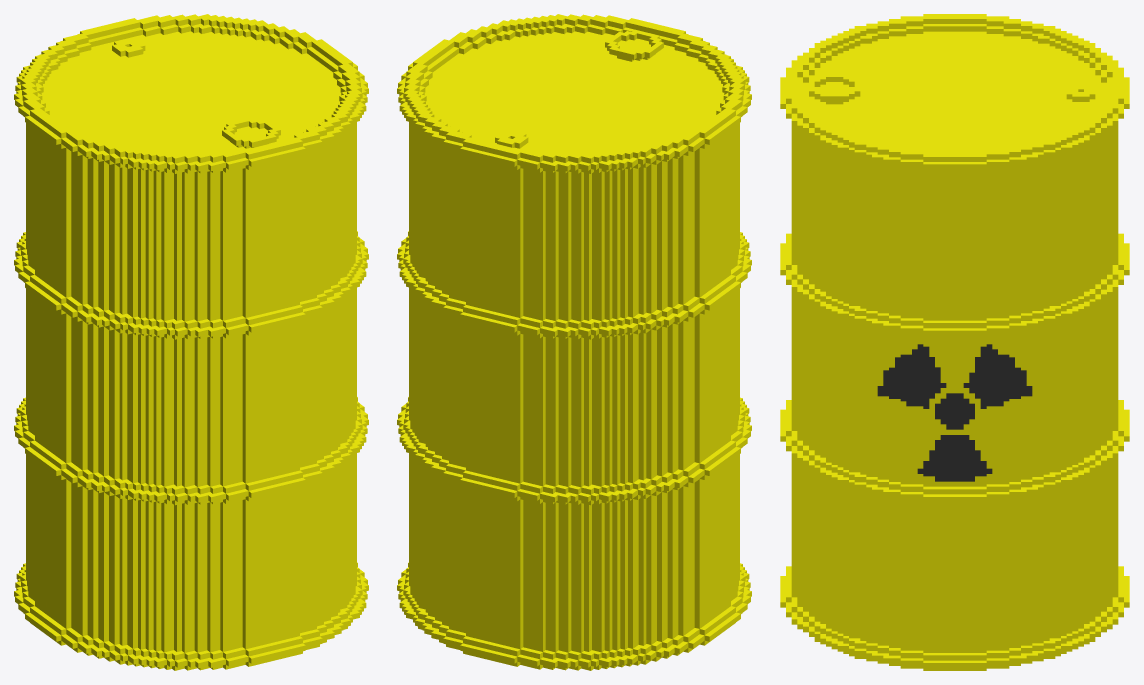
The model's file is Drum Barrel1-1.fbx.
The picture shows the model from 3 angles, left to right: view 1: azimuth 30°, elevation 25°; view 2: azimuth 150°, elevation 25°; view 3: azimuth 270°, elevation 25°; orthographic projection.
Visible parts, largest first — view 1: Drum Barrel1-1; view 2: Drum Barrel1-1; view 3: Drum Barrel1-1.
Boxes of the visible parts, <box> form: Drum Barrel1-1: <box>14,14,368,670</box>; Drum Barrel1-1: <box>397,14,751,670</box>; Drum Barrel1-1: <box>780,14,1129,670</box>.
Bounding box in the file's own units: 6.1 × 9.9 × 6.1.
